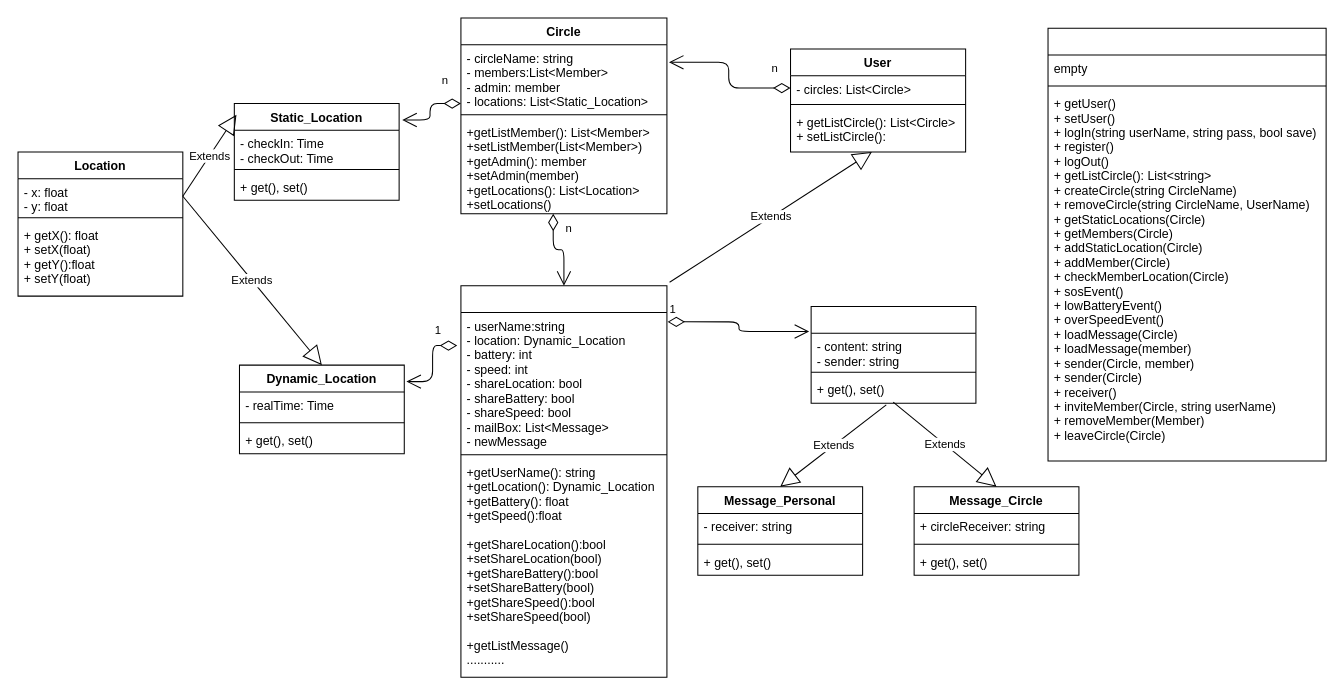
The diagram is 1344 pixels wide and 698 high, and some of its shapes have lost their labels. Here are the shapes that lost their labels. From the top down, the box of each, then its label:
(1047, 27, 1326, 461): Business
(810, 305, 976, 403): Message
(460, 285, 667, 677): Member
